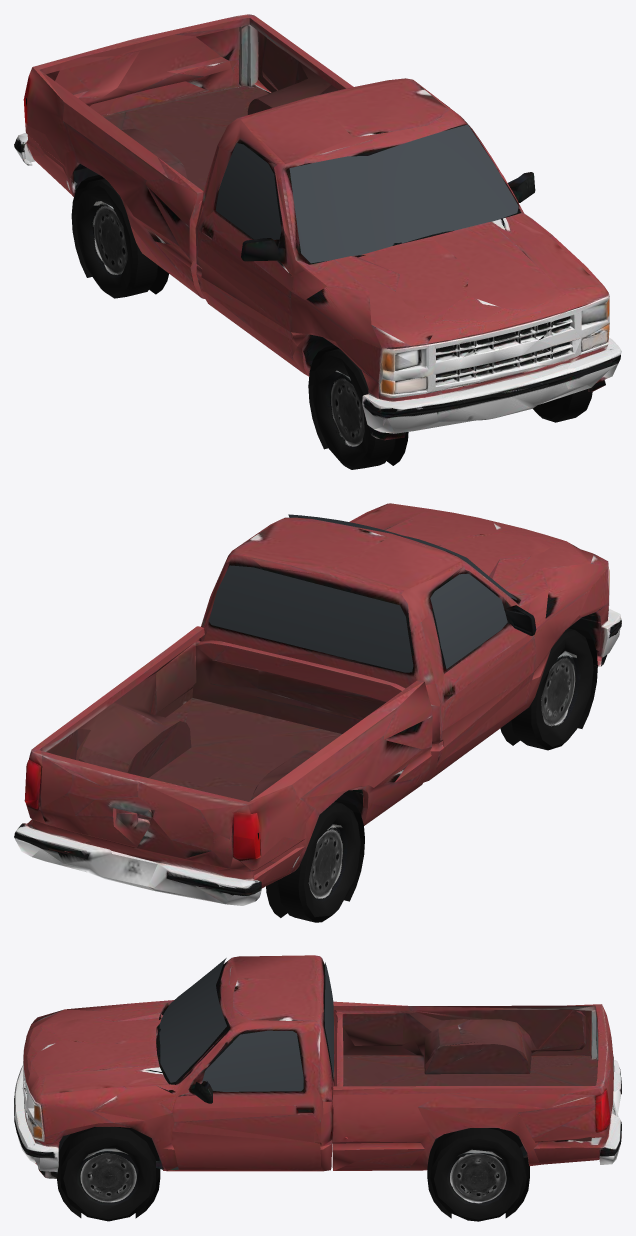
Rendered from pickup.glb.
3 views of the same model, one above another, from view 1: azimuth 30°, elevation 25°; view 2: azimuth 150°, elevation 25°; view 3: azimuth 270°, elevation 25° (orthographic). The views are drawn at different scales.
Visible parts, largest first — view 1: body, glass, wheel_rr, wheel_fr, wheel_fl; view 2: body, glass, wheel_rr, wheel_fr; view 3: body, glass, wheel_fl, wheel_rl.
Boxes of the visible parts, bbox=[...] form: body: bbox=[14, 14, 621, 465]; glass: bbox=[215, 105, 518, 263]; wheel_rr: bbox=[76, 178, 157, 298]; wheel_fr: bbox=[312, 348, 395, 469]; wheel_fl: bbox=[533, 389, 592, 422]; body: bbox=[14, 503, 621, 917]; glass: bbox=[209, 514, 516, 672]; wheel_rr: bbox=[277, 801, 360, 922]; wheel_fr: bbox=[510, 628, 593, 750]; body: bbox=[14, 955, 621, 1218]; glass: bbox=[159, 958, 333, 1091]; wheel_fl: bbox=[61, 1127, 155, 1221]; wheel_rl: bbox=[430, 1128, 526, 1221].
Bounding box in the file's own units: 2.33 × 1.88 × 5.3.
Materials: 3 (2 with a texture image).
